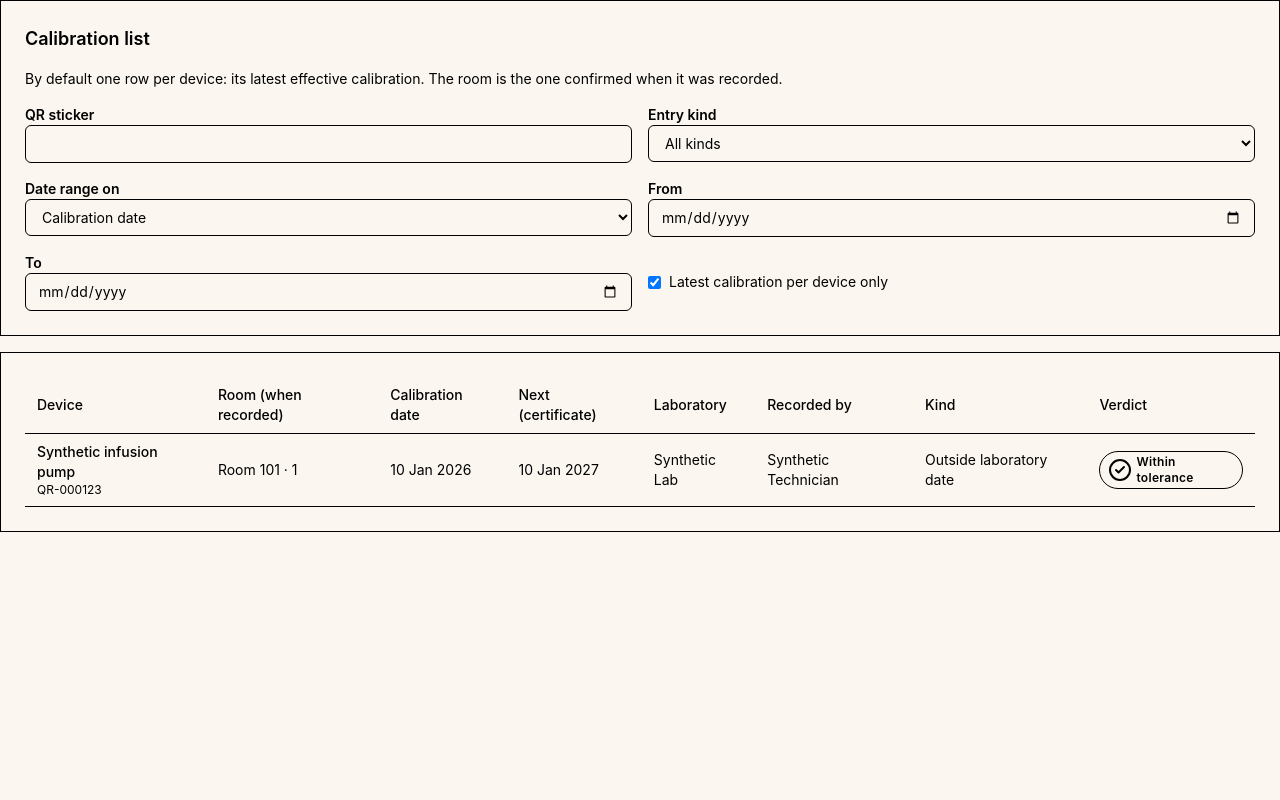
Scenario: P22-05 — calibration list › warns when the range is reversed
Expected: the table is shown, [25,377,1255,507]
Type "2026-05-01" into the date field labelled "From".
click(952, 218); type("2026-05-01")  # box [648,199,1255,237]
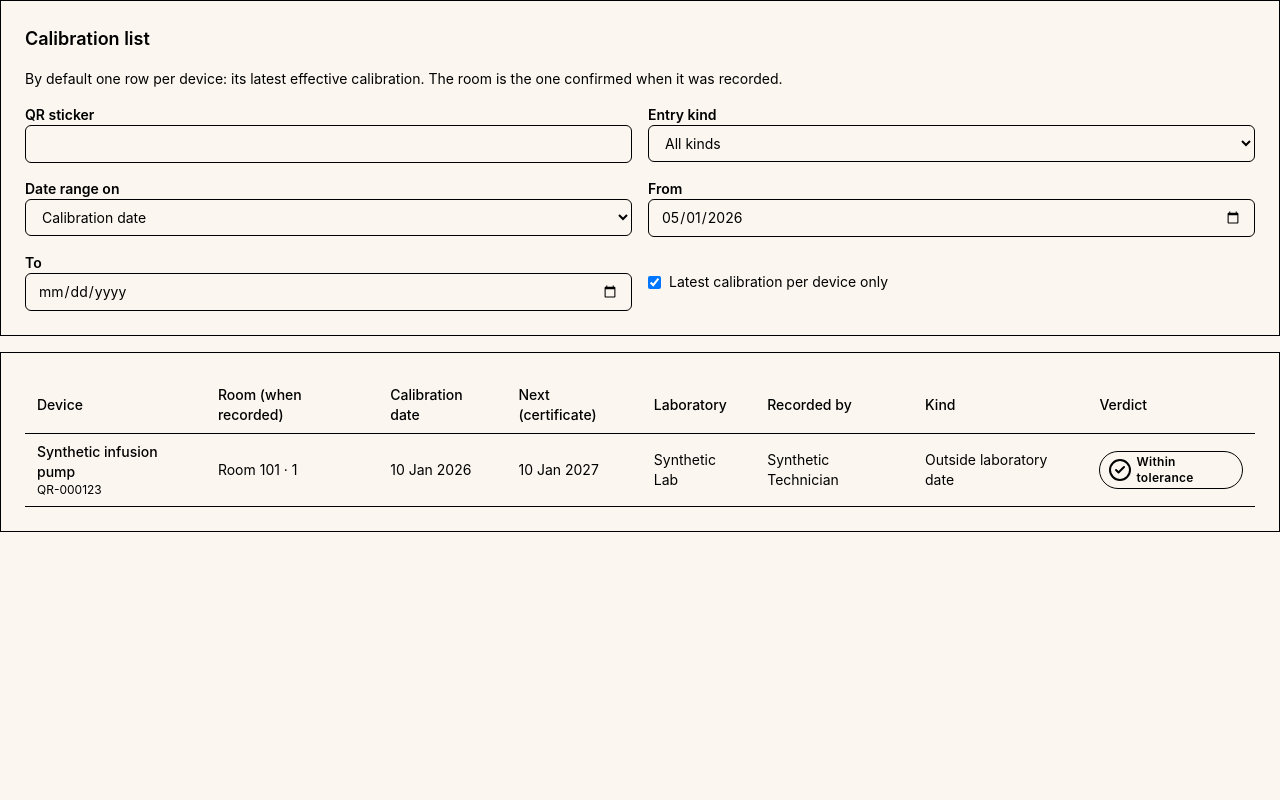
Type "2026-04-01" into the date field labelled "To".
click(328, 292); type("2026-04-01")  # box [25,273,632,311]
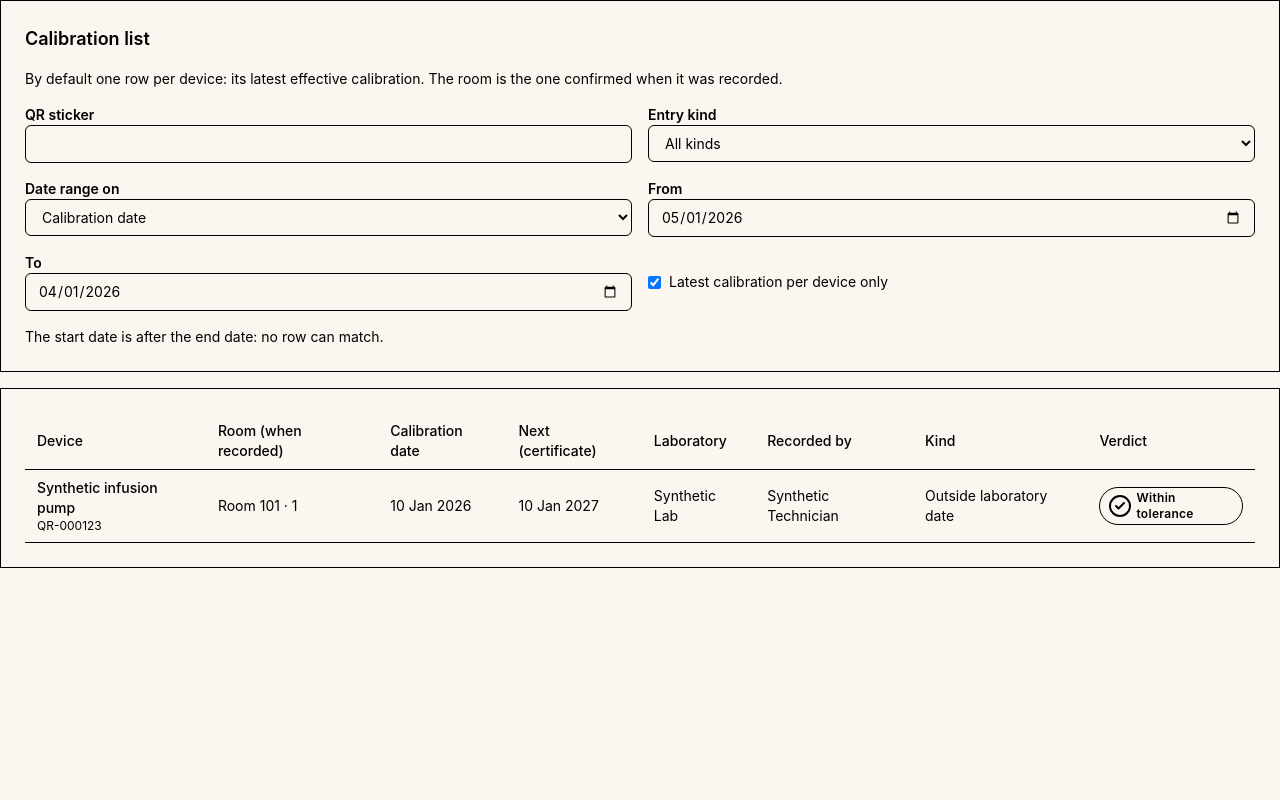
Now the text "The start date is after the end date: no row can match." is shown, box [25,328,384,345]
